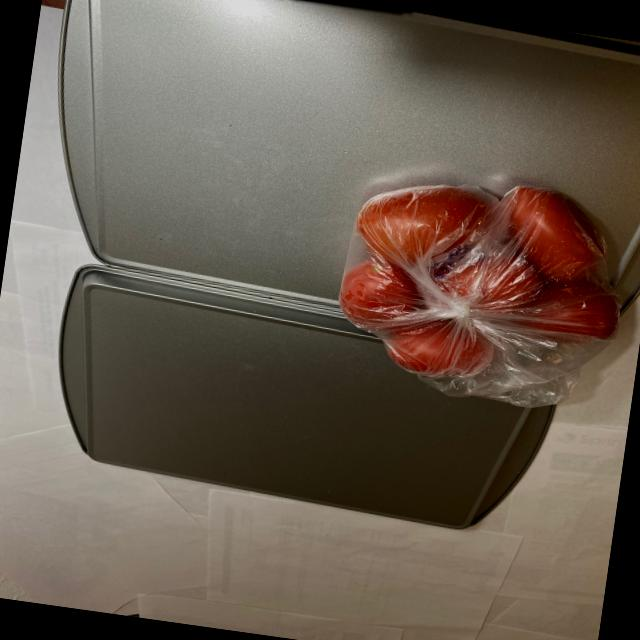tomato: (323, 152, 638, 400)
